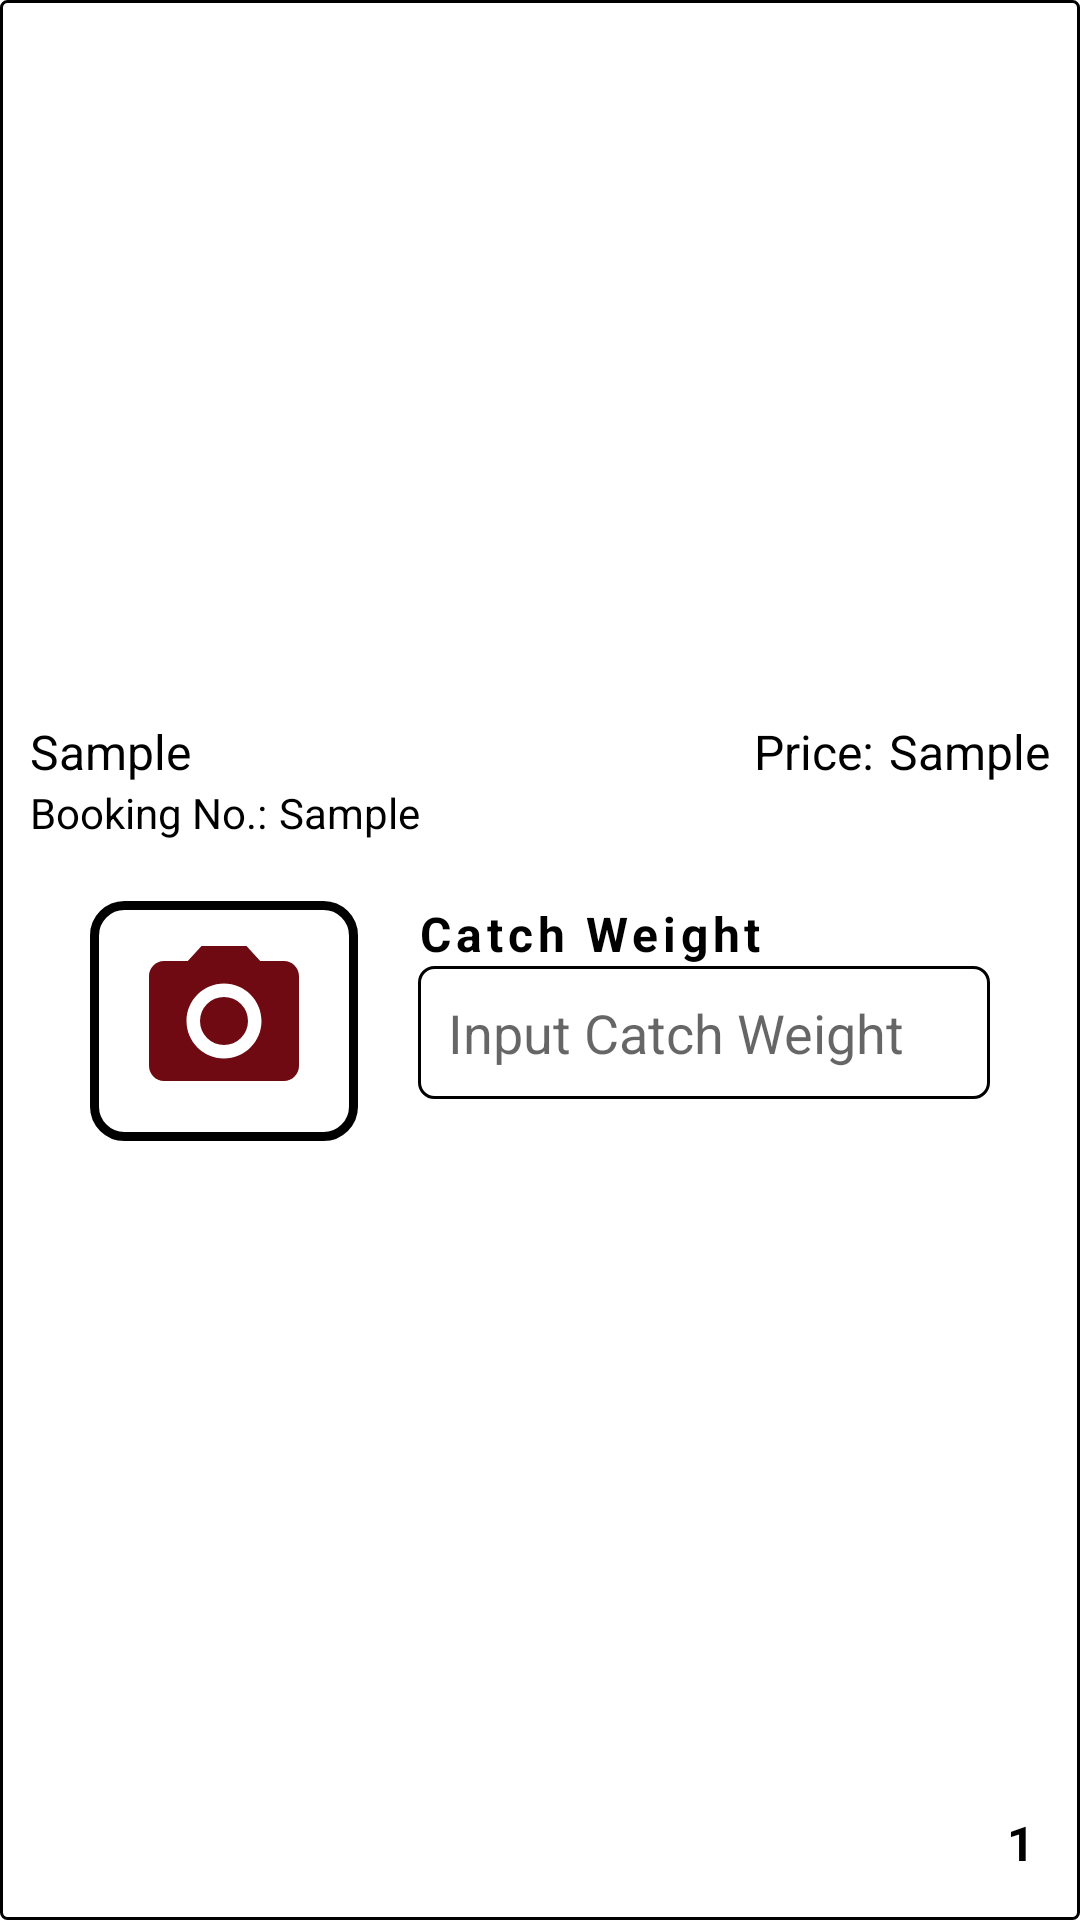

Icon click points for this 1080*1920 phone screenshot, format point (x, y):
camera: point (224, 1021)
